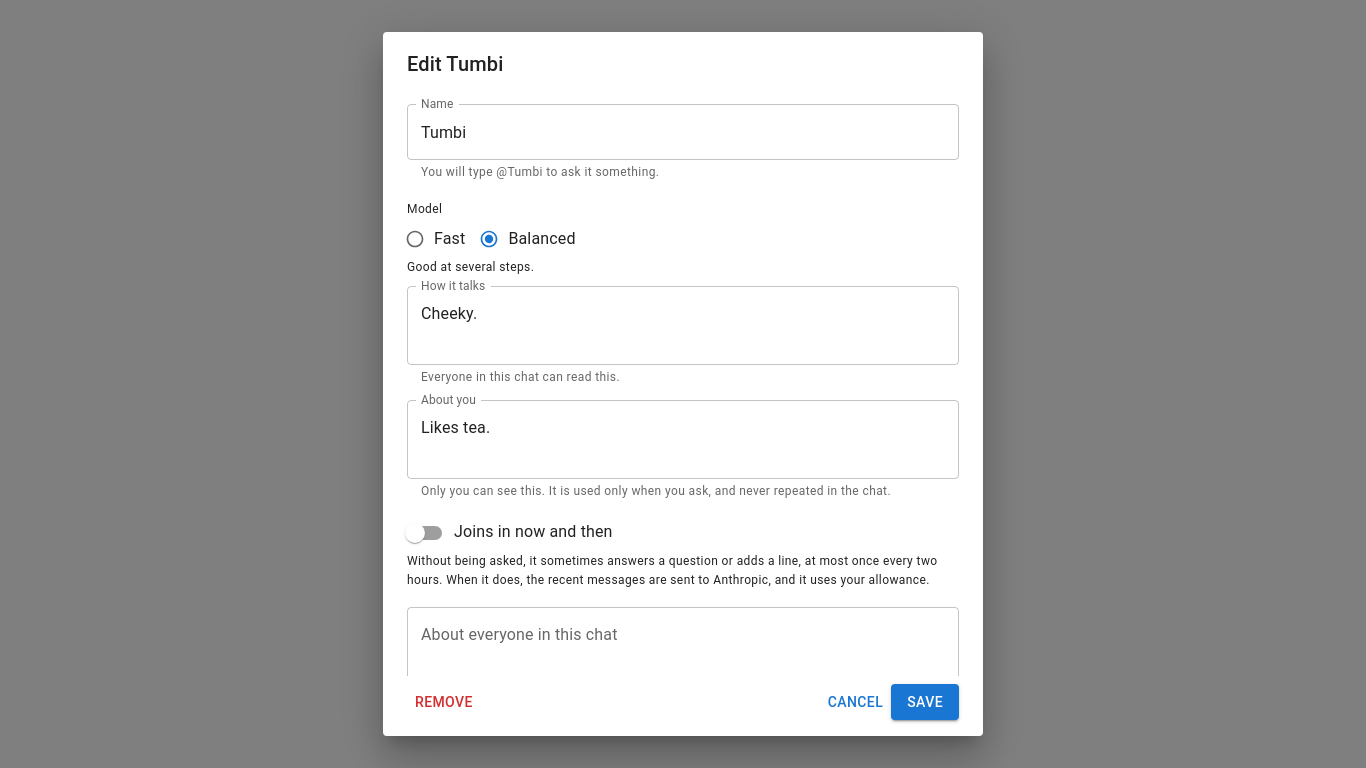
Test: changing an assistant › says why when it could not be removed, and goes back to asking
Click the button "Remove".
click(444, 702)  # box top-left (407, 684), bottom-right (481, 720)
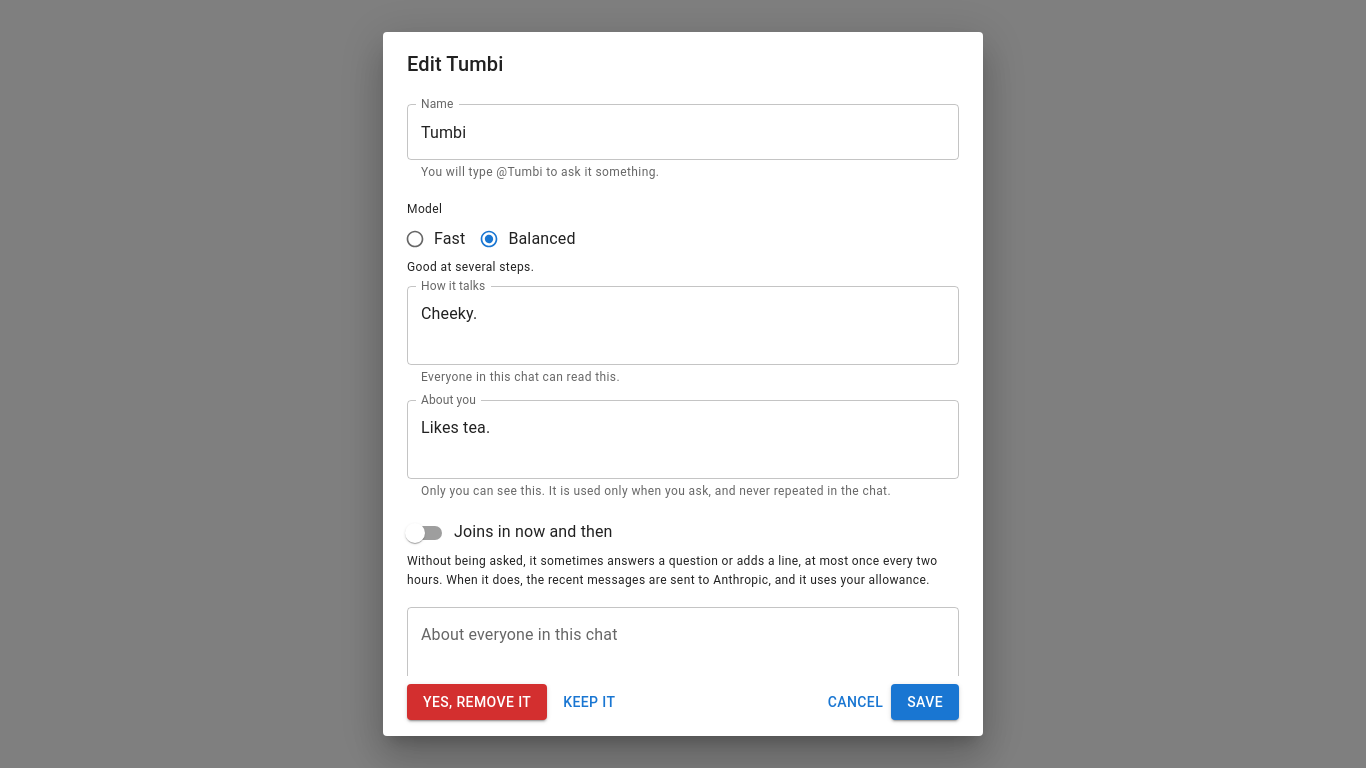
Click the button "Yes, remove it".
click(477, 702)  # box top-left (407, 684), bottom-right (547, 720)
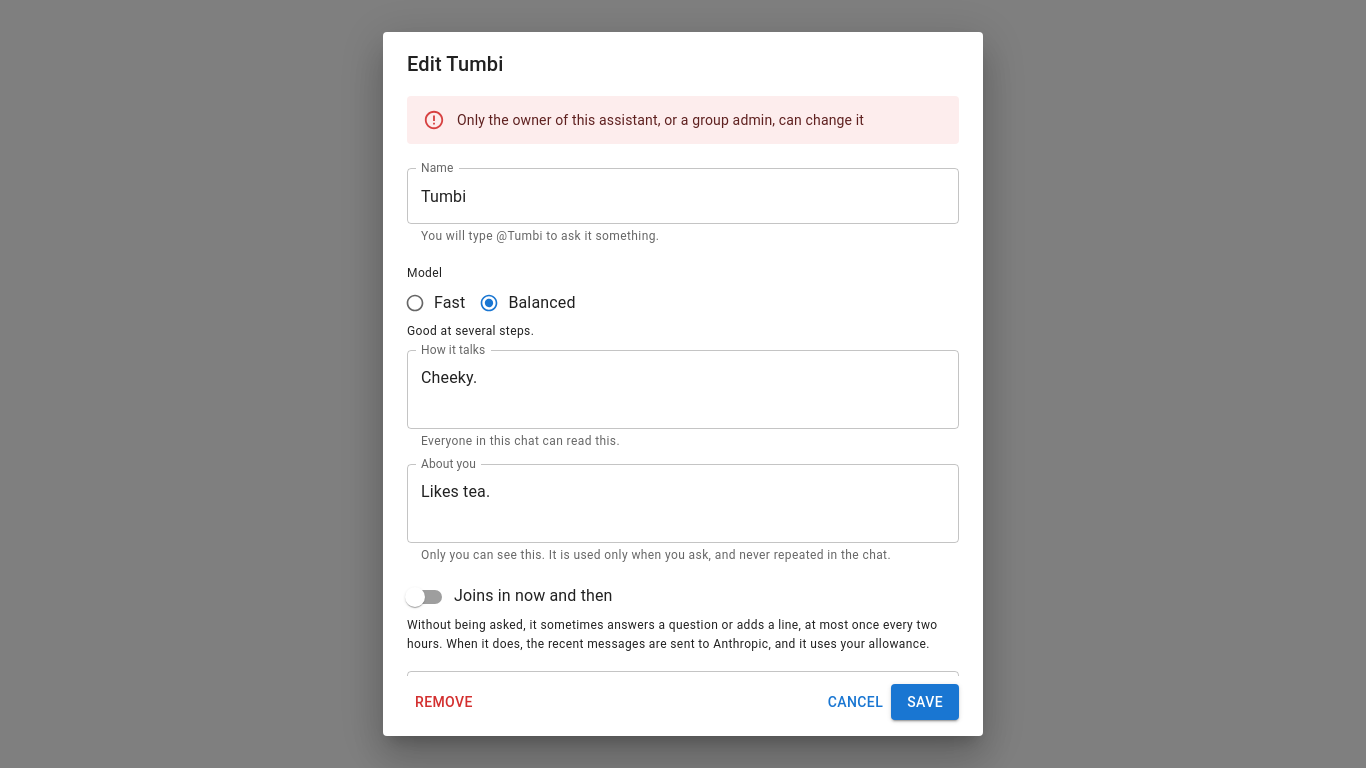
Check: the button "Remove" is shown, box top-left (407, 684), bottom-right (481, 720)
Check: the text "Only the owner of this assistant" is shown, box top-left (457, 112), bottom-right (864, 128)
